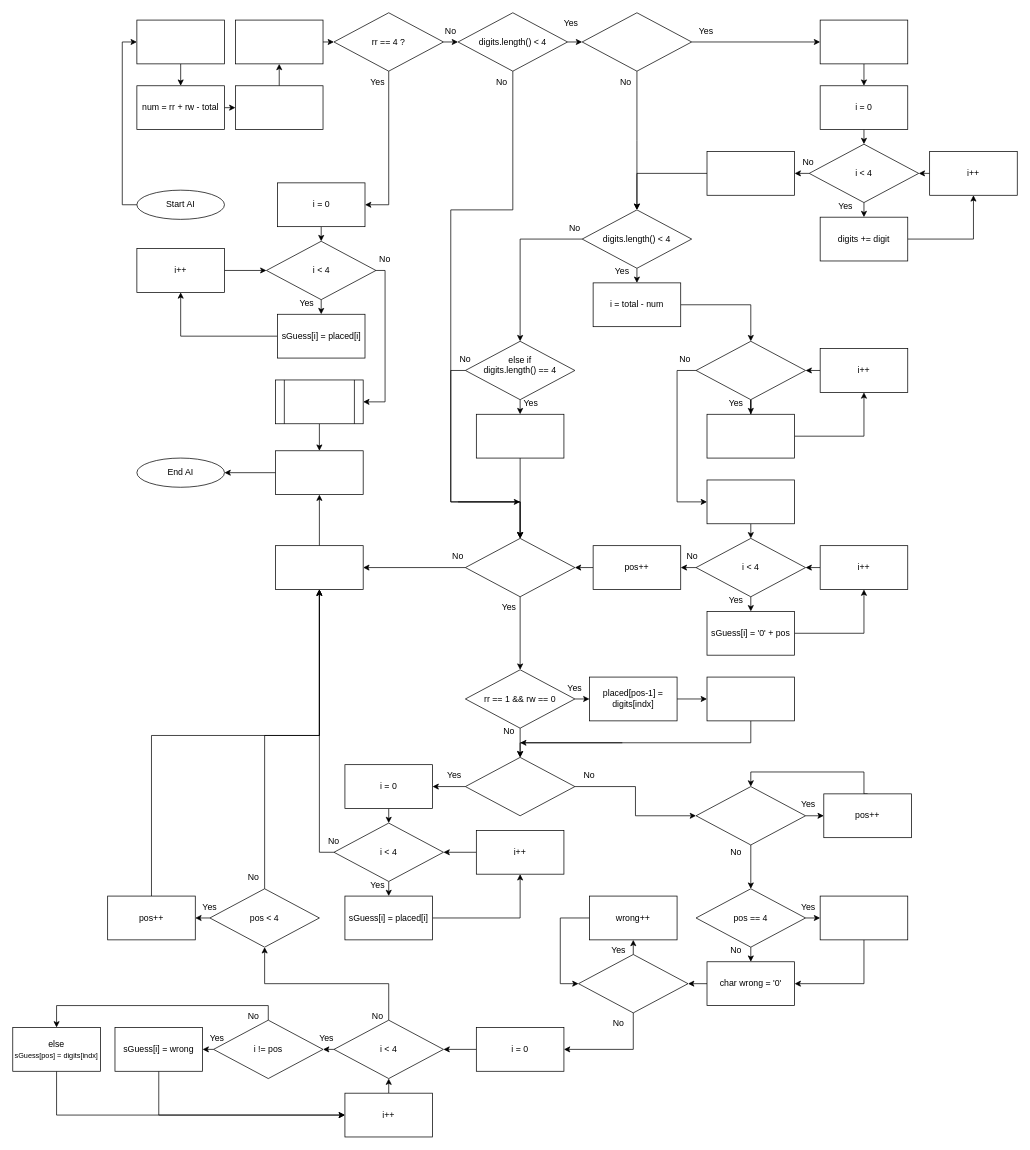
This 1030x1150 diagram has some shape labels left out. Each missing label, with the centre of its shape:
aGuess[++guess] = sGuess: (319,567)
char digit = (pos-1) + '0': (863,41)
Declare static variables: (180,41)
digits.length() == 4: (520,567)
found == 4: (520,786)
found++ indx++ pos = 0: (750,698)
i < digits.length(): (750,370)
i = digits.length(): (750,501)
num > 0: (636,41)
pos = 0 indx = 0: (520,436)
pos = 0 indx++: (863,917)
print: (319,401)
return sGuess: (319,472)
save current rr to grr[guess]: (279,107)
save current rw to grw[guess]: (279,41)
sGuess[i] = digits[i]: (750,436)
total += num: (750,173)
while pos < 4 && placed[pos] != 'x': (750,815)
while wrong is in digits: (633,983)
